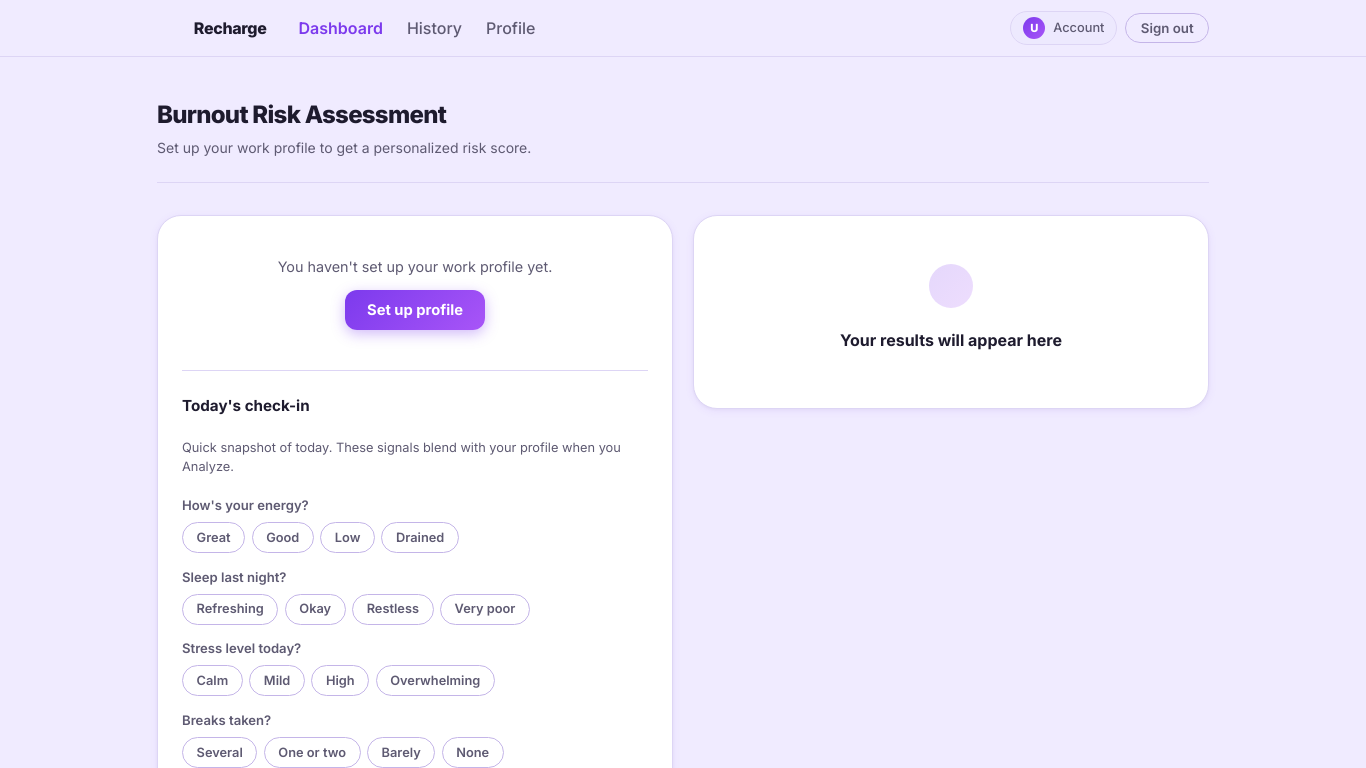
Test: Dashboard (authenticated) › returns to landing page after sign out
The image size is (1366, 768).
Click the button "Sign out" at (1167, 28), box [1126,13,1209,43]
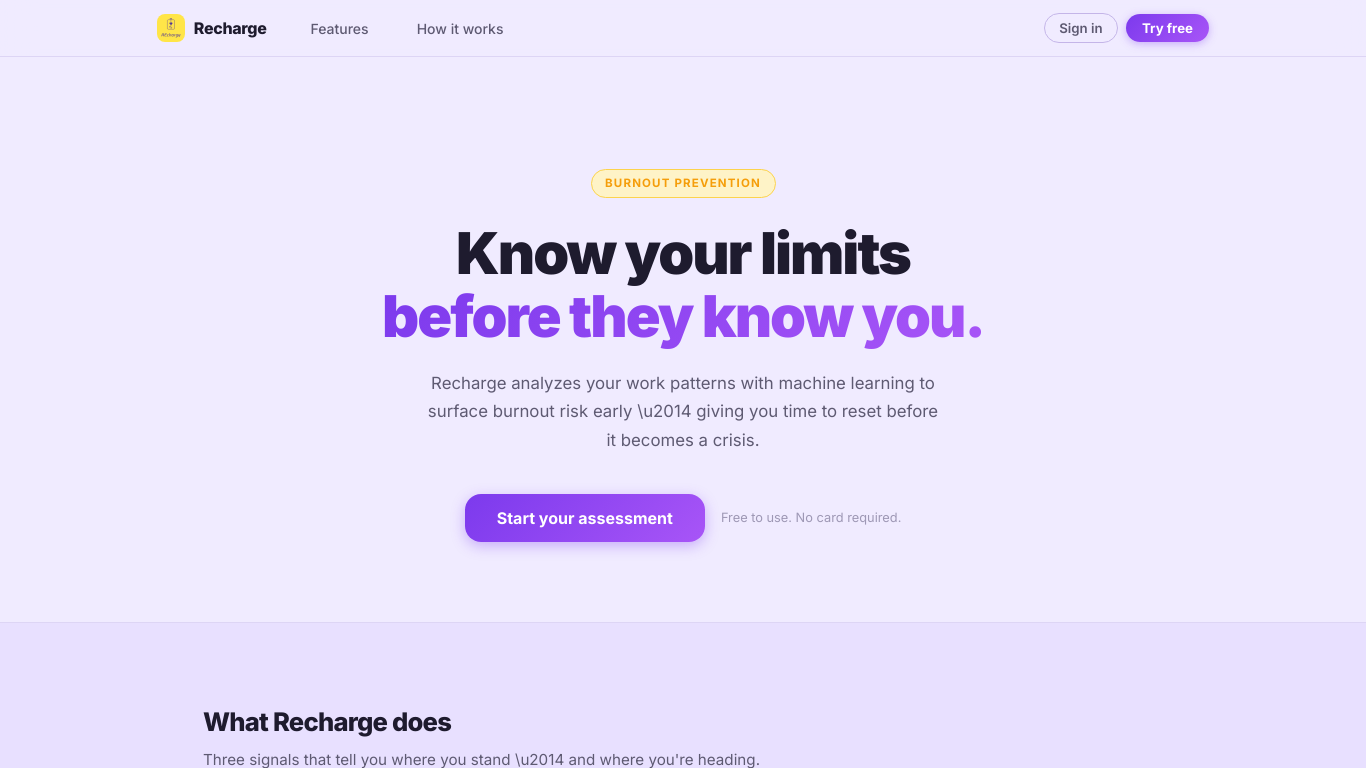
Now the heading "Know your limits" is shown, box [456,218,910,288]
